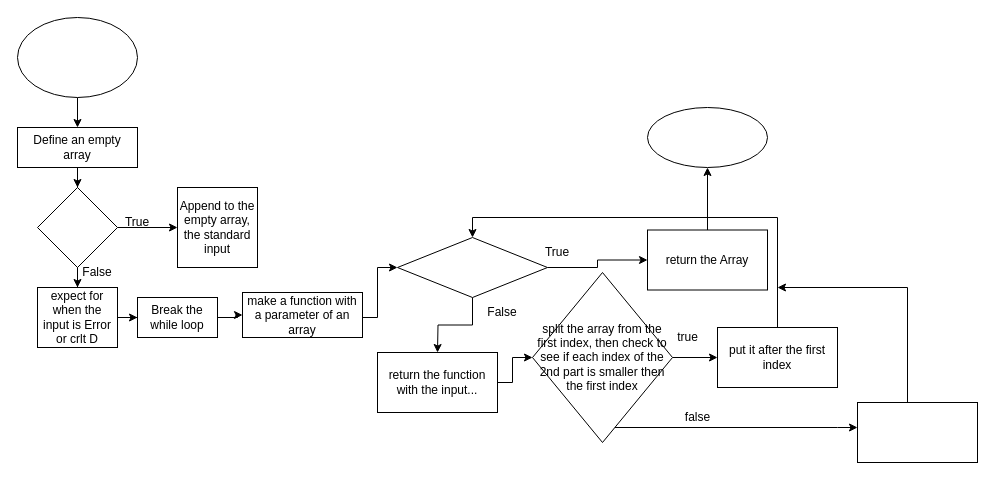
Some shapes in this 995 by 480 pixel diagram are drawn without their labels. The centre of each missing label's shape, as x and y in pixels:
"if the length of the input Array is <= 1" goes at [472,267].
"Print the function with the input as Array" goes at [707,137].
"put it before the first index" goes at [917,432].
"Start" goes at [77,57].
"while True" goes at [77,227].
